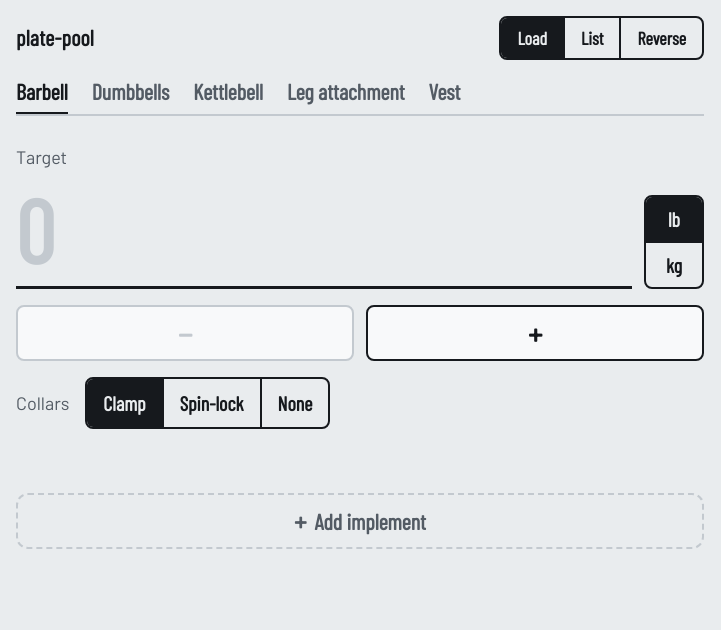
Test: dumbbells Load screen › selects the dumbbells tab, asks for a pair unless one is picked, and has no collar choice
Click the tab "Dumbbells" at (130, 94), box [92,72,169,116]
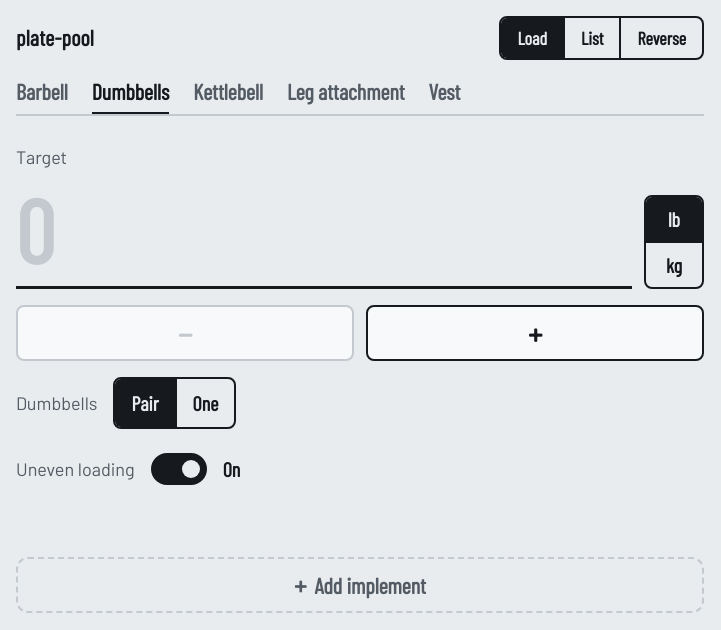
Expected: the radio button labelled "Pair" is checked, [115,379,174,427]
Expected: the text "Collars" is gone
